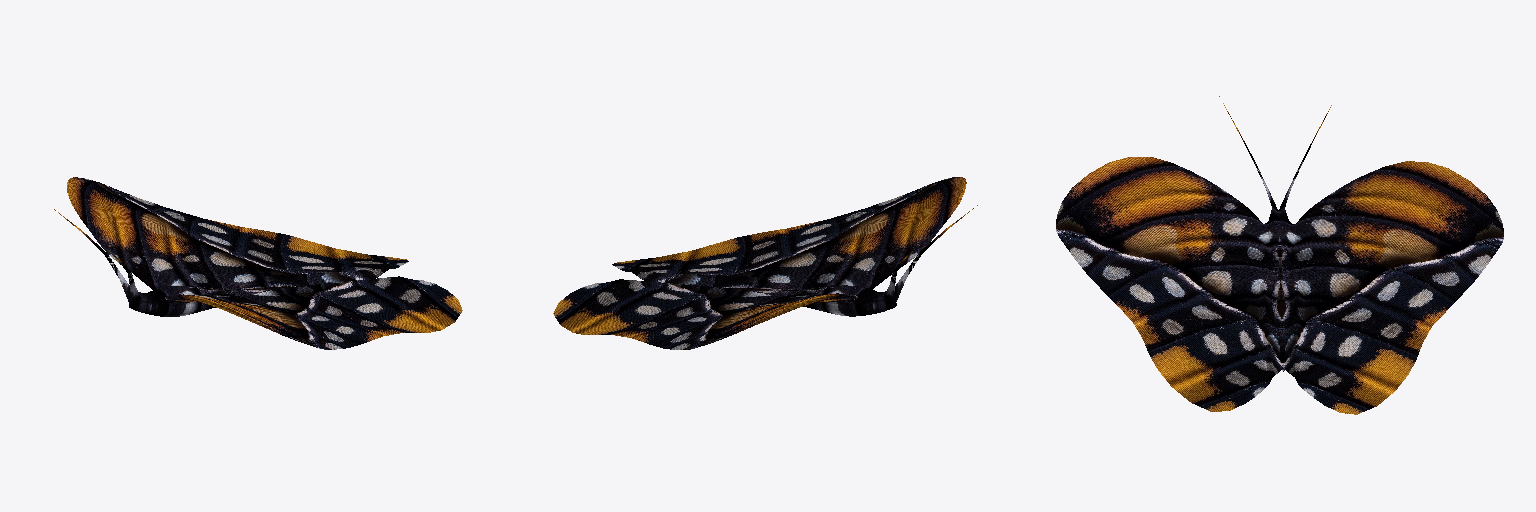
3 renders of one model, left to right at view 1: azimuth 30°, elevation 25°; view 2: azimuth 150°, elevation 25°; view 3: azimuth 270°, elevation 25°, orthographic.
Parts seen in each view (by area): view 1: butterfly:Cylinder10; view 2: butterfly:Cylinder10; view 3: butterfly:Cylinder10.
Boxes of the visible parts, x1=… form: butterfly:Cylinder10: x1=54, y1=177, x2=462, y2=349; butterfly:Cylinder10: x1=553, y1=177, x2=977, y2=349; butterfly:Cylinder10: x1=1056, y1=96, x2=1503, y2=414.
Size of the model in its own units: 26.1 by 10.09 by 28.18.
1 materials, 1 textured.